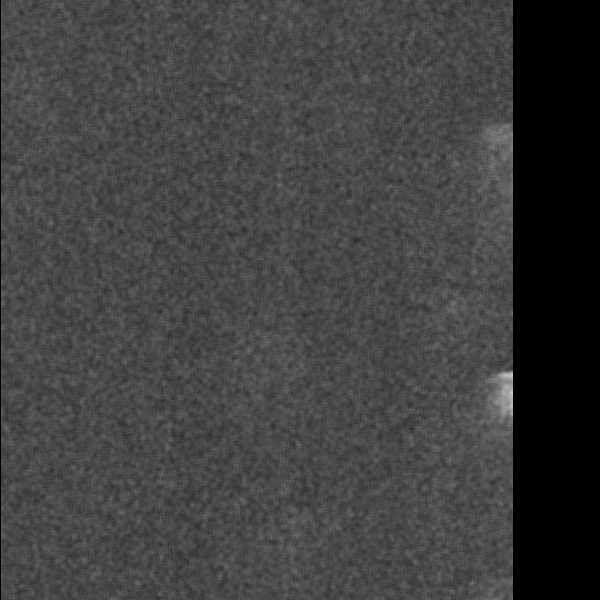spark: (491, 365, 521, 514)
